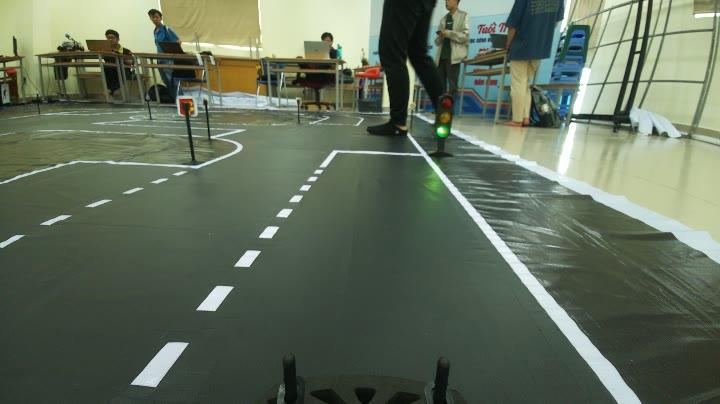trafficlight: (418, 88, 465, 168)
